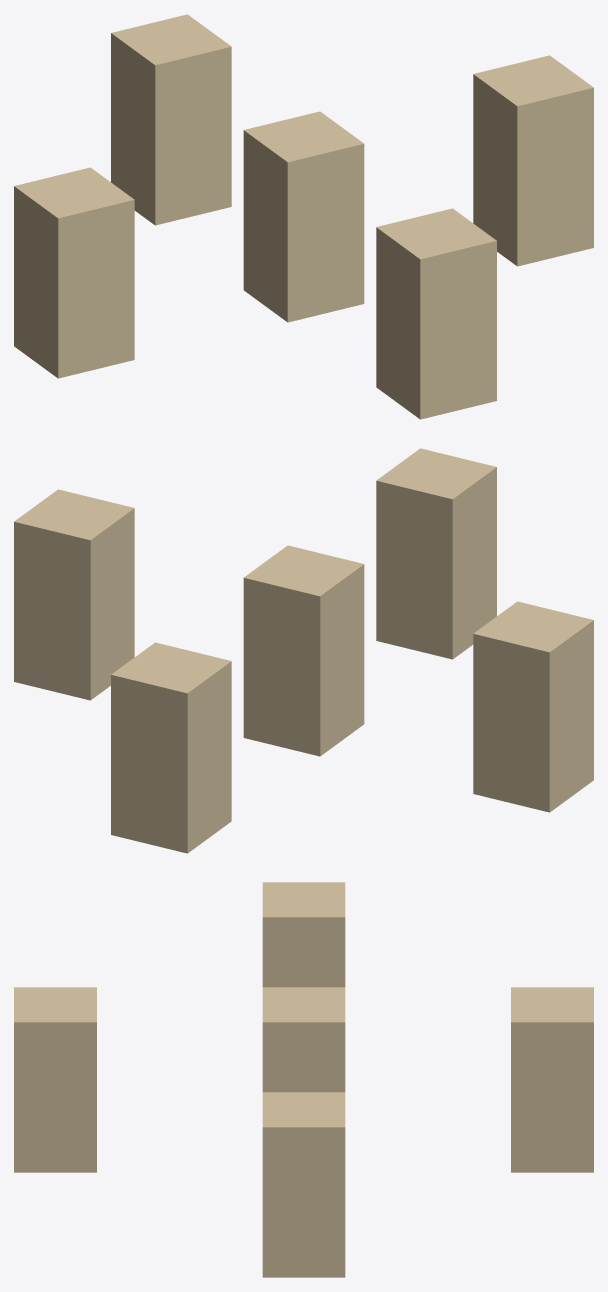
The model's file is church-41-candelabracream.obj.
The picture shows the model from 3 angles, top to bottom: view 1: azimuth 30°, elevation 25°; view 2: azimuth 150°, elevation 25°; view 3: azimuth 270°, elevation 25°; orthographic projection. The views are drawn at different scales.
Visible parts, largest first — view 1: candelabracream; view 2: candelabracream; view 3: candelabracream.
Part boxes in pixels (box(x1,y1,x2,y2)): candelabracream: box(14, 14, 593, 419); candelabracream: box(14, 448, 593, 853); candelabracream: box(14, 882, 593, 1277).
Bounding box in the file's own units: 0.7 × 0.2 × 0.7.
Materials: 1 (1 with a texture image).
